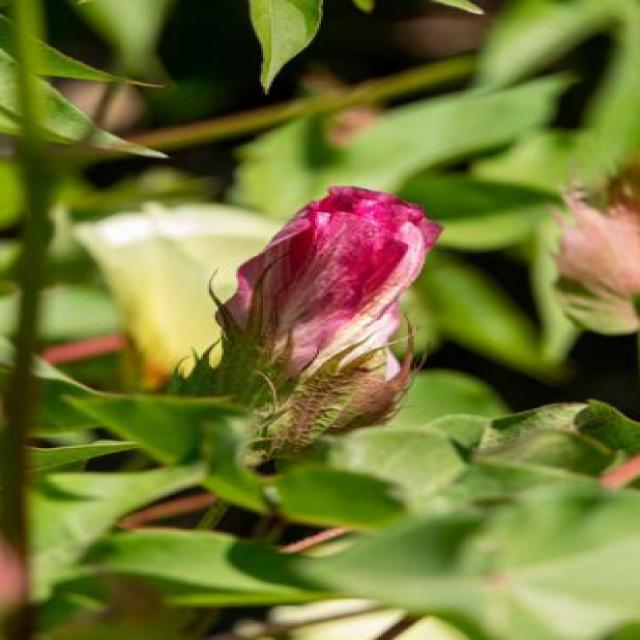Cotton Blossom: (223, 197, 432, 458), (85, 212, 254, 406)
Cotton Bud: (540, 167, 640, 354)
